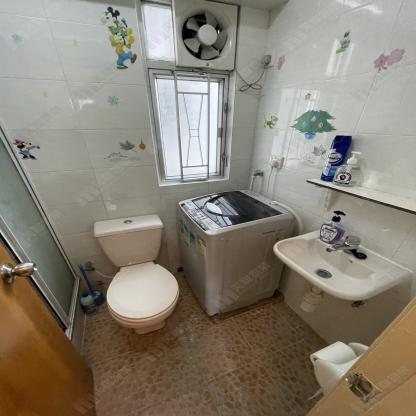Exhaust Fan: (171, 0, 239, 72)
Toilet: (93, 214, 179, 334)
Toilet Sink: (273, 229, 416, 301)
Washing Machine: (174, 190, 294, 316)
